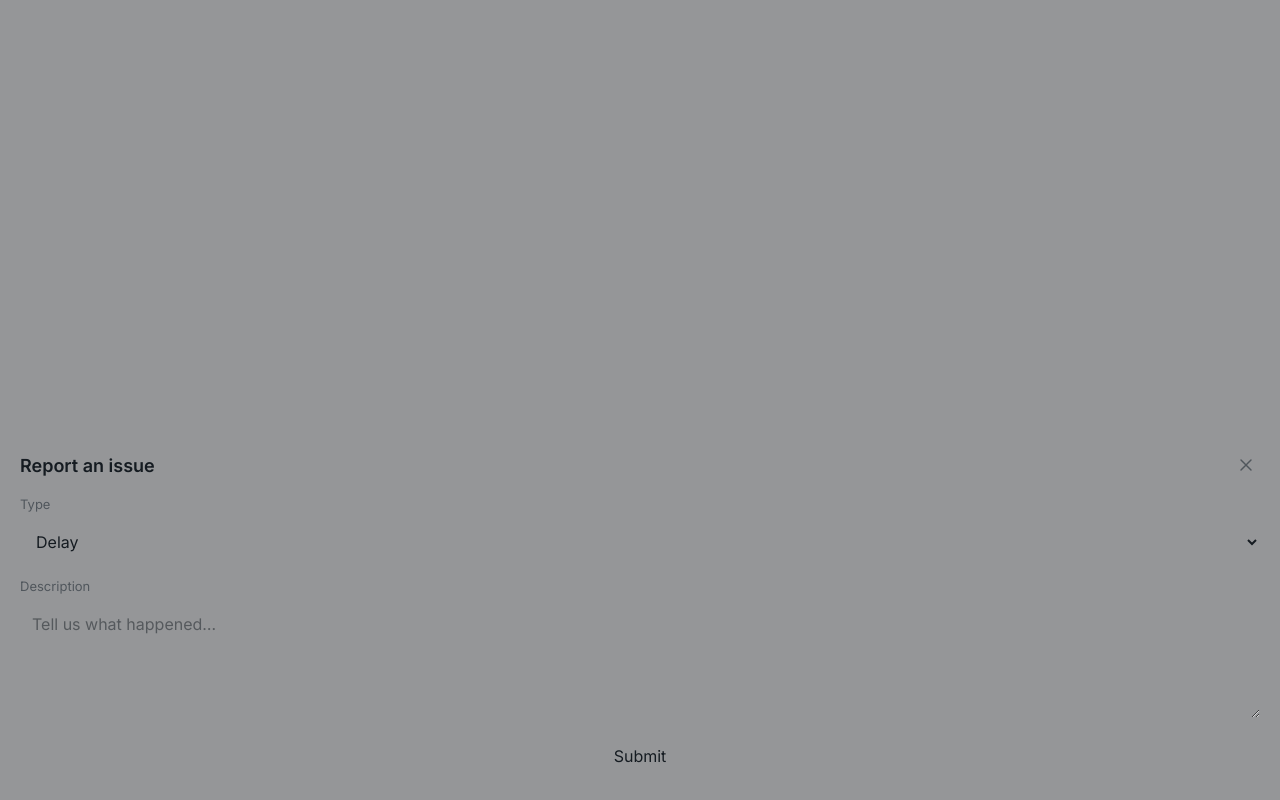
ReportSheet › keeps the sheet open and renders an error on failure
The width and height of the screenshot is (1280, 800).
Type "lleno" into the text box with placeholder "Tell us what happened…".
click(640, 660); type("lleno")  # box [20,602,1260,718]
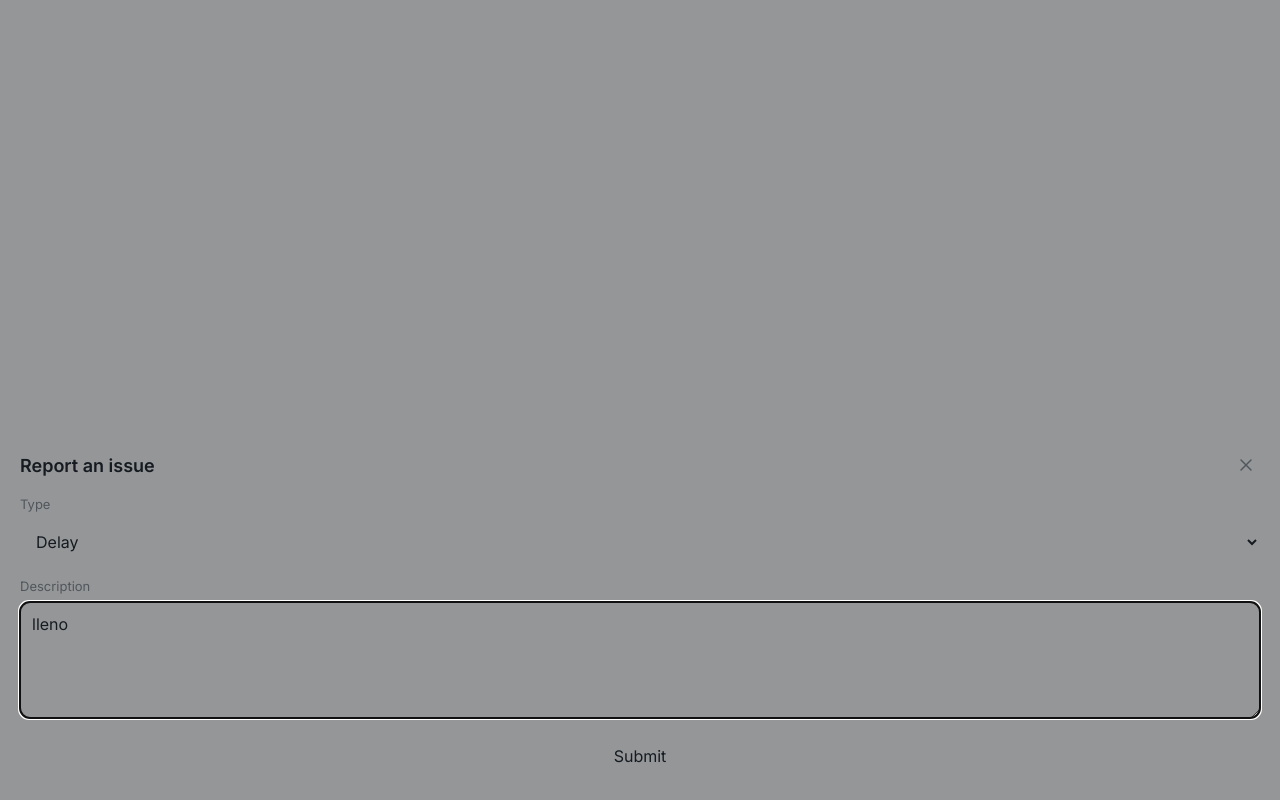
Submit the form "Type Description Submit", box [20,495,1260,780]
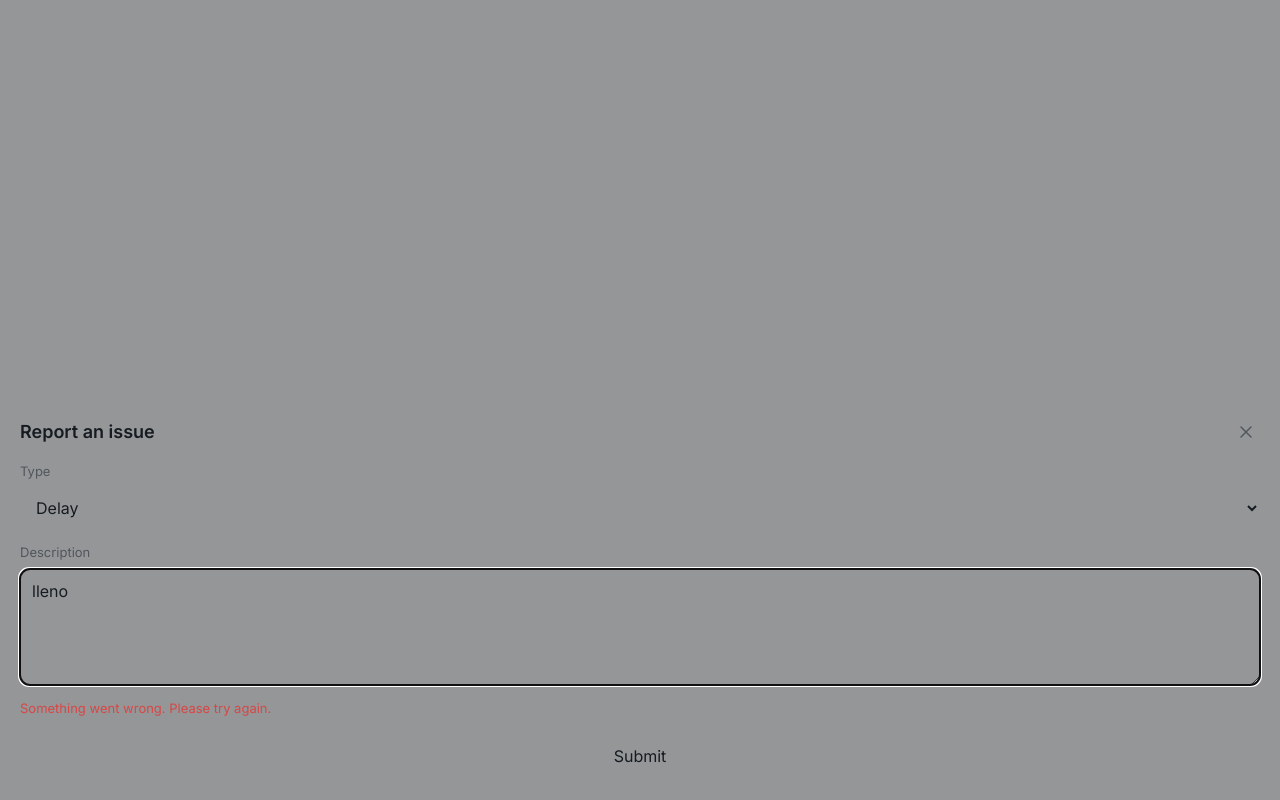
Now the message "Something went wrong. Please try again." is shown, box [20,700,271,716]
